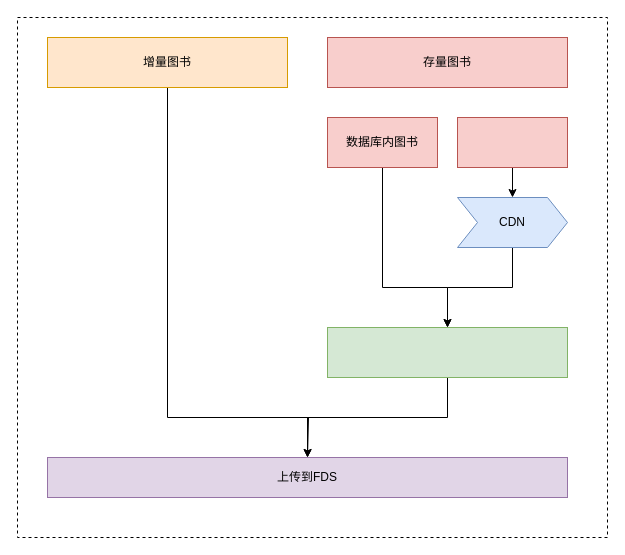
This 625x555 diagram has some shape labels left out. Here are the shapes that lost their labels. From the top down, the centre of each, then its label:
At (x=512, y=142): "数据库外图书".
At (x=447, y=352): "获取URL".
